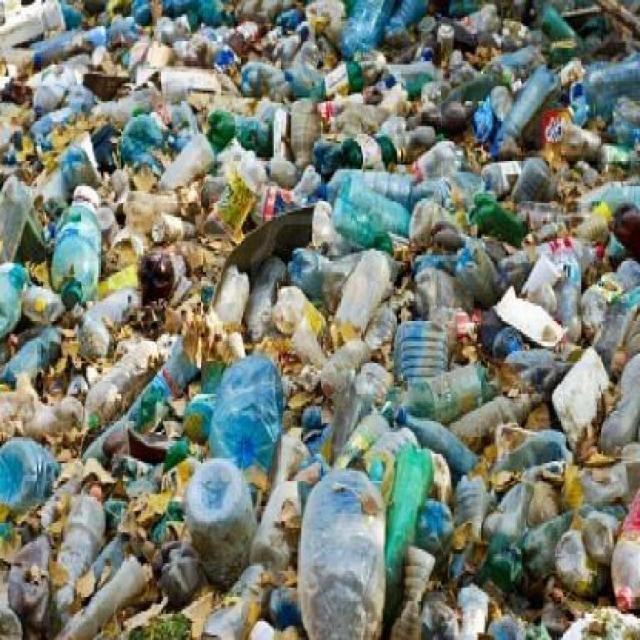garbage: (14, 16, 616, 593)
